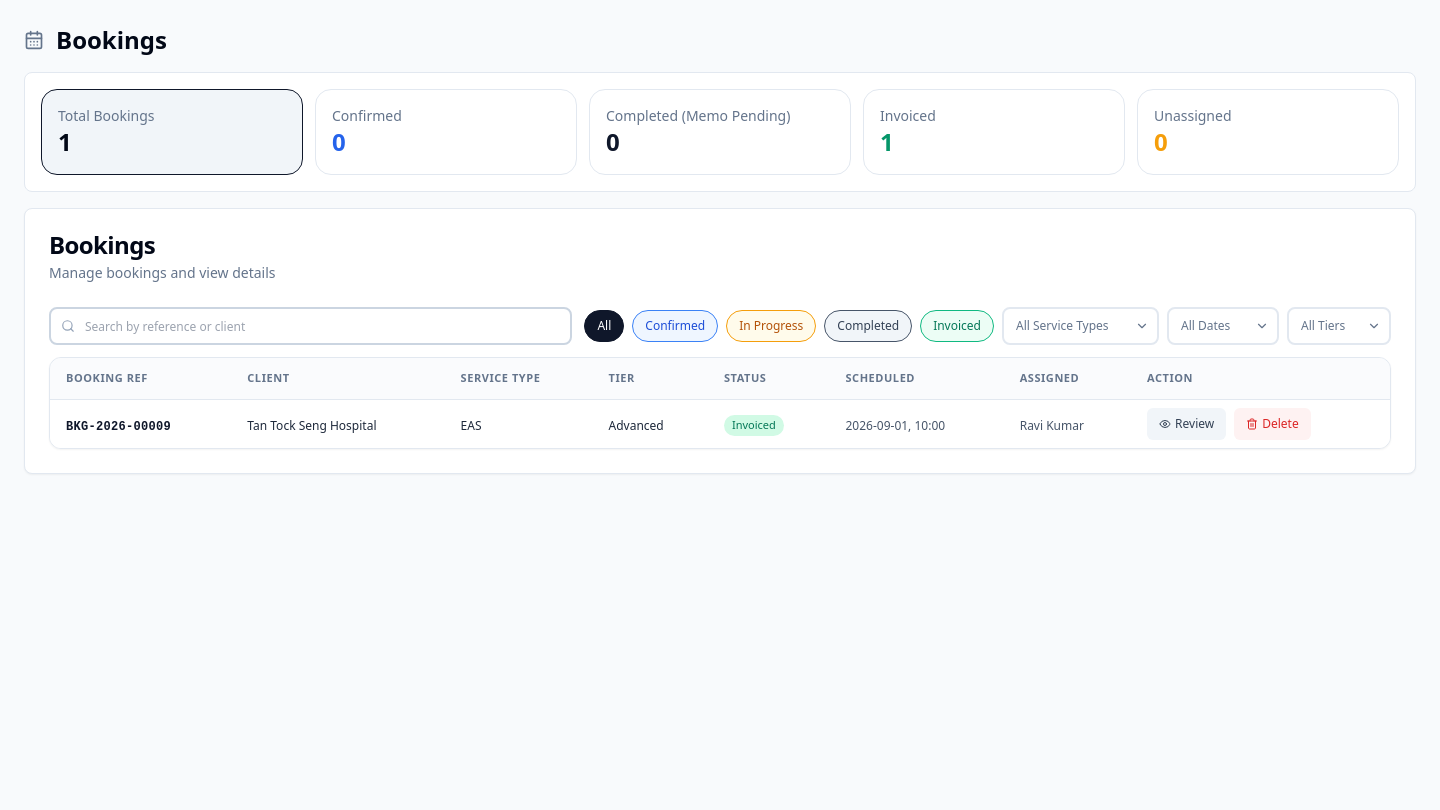
Test: BookingListPage - delete flow › confirming the dialog deletes the booking and shows a success notification
Check: the text "BKG-2026-00009" is shown, box x1=66 y1=420 x2=171 y2=434
Click the button "Delete" at (1272, 424), box x1=1234 y1=408 x2=1311 y2=440
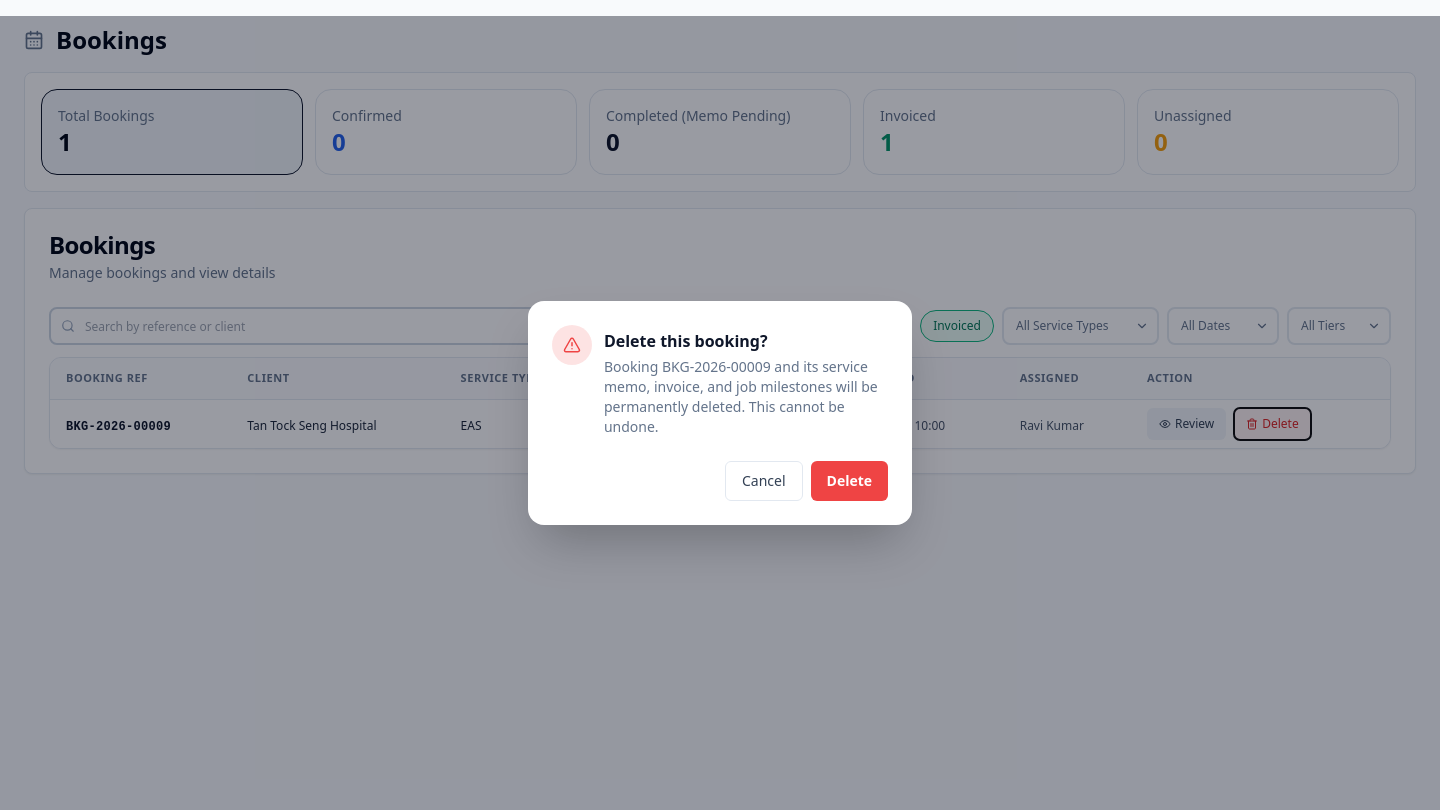
Click the button "Delete" at (849, 481), box x1=810 y1=461 x2=888 y2=501
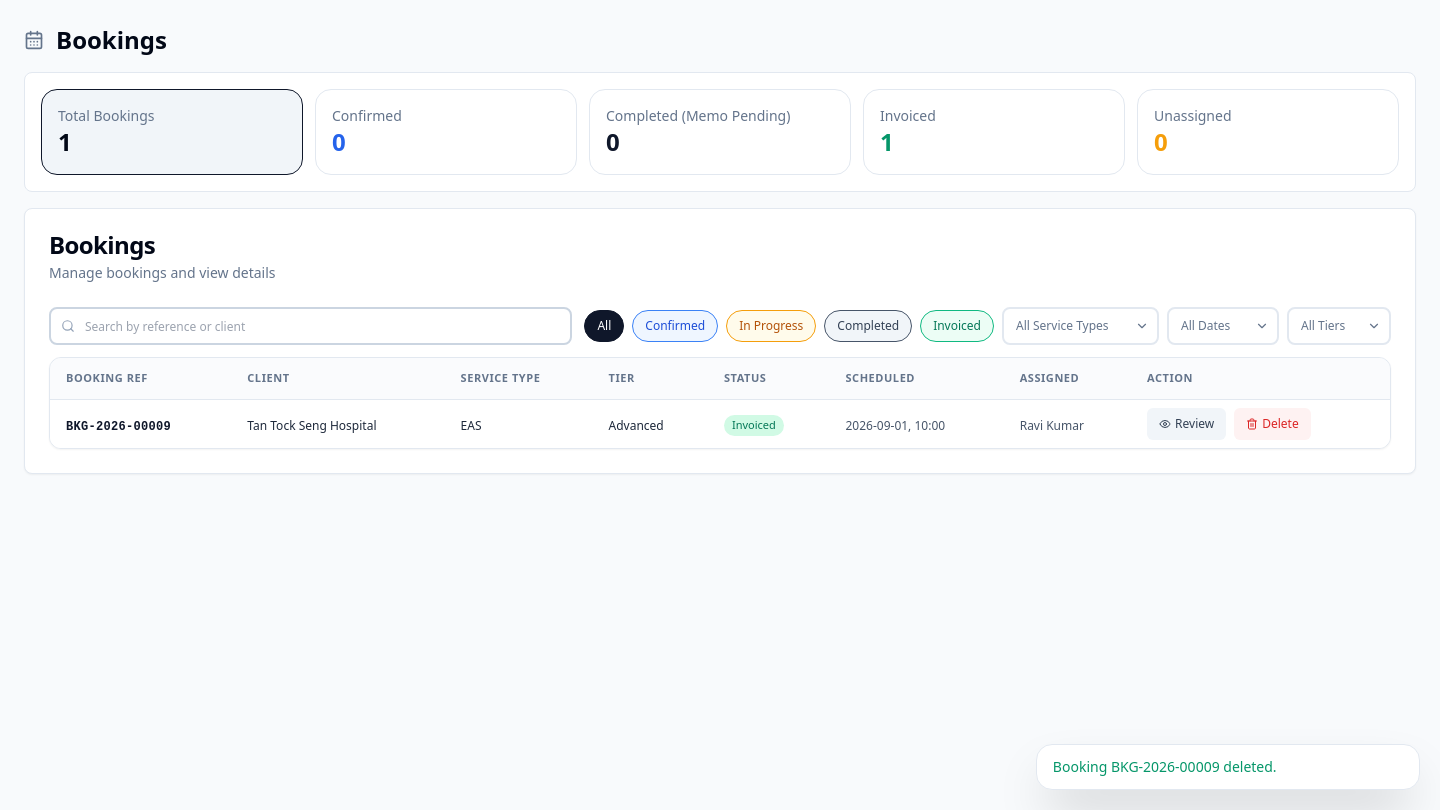
Check: the text "Booking BKG-2026-00009 deleted." is shown, box x1=1053 y1=757 x2=1277 y2=776
Check: the text "Delete this booking?" is gone
